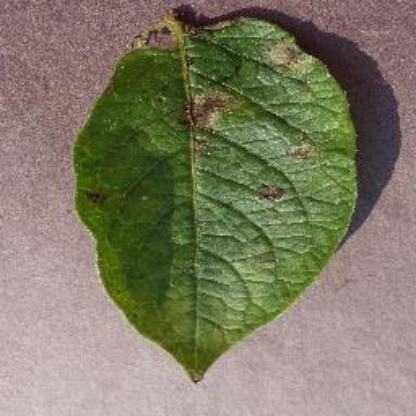Late-Blight: (61, 6, 371, 388)
